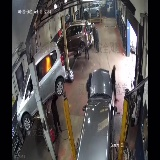fire: (44, 51, 52, 72)
